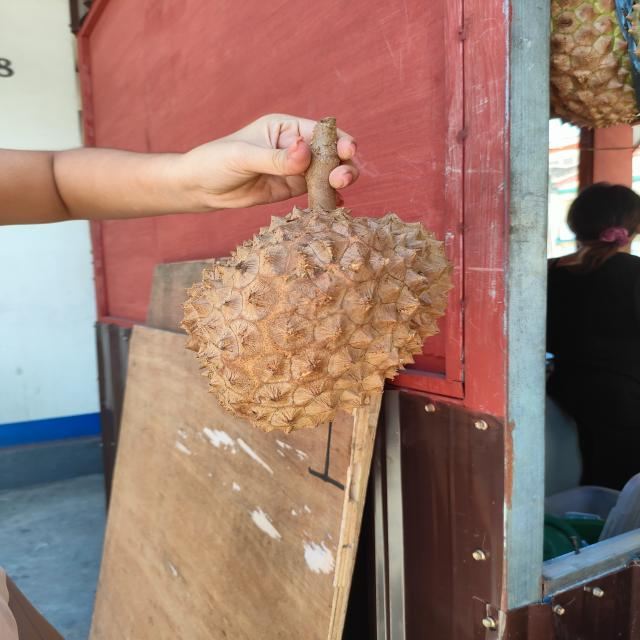mature: (176, 206, 456, 436)
